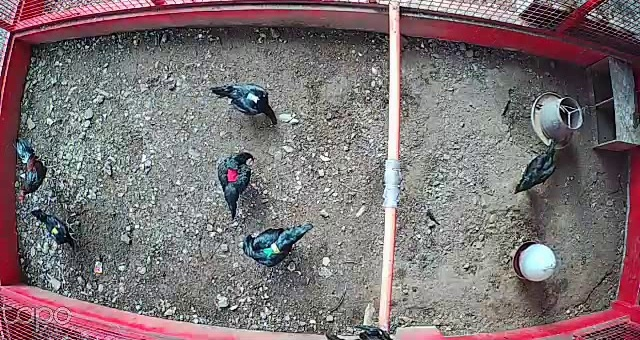Chicken: (207, 74, 282, 137), (242, 220, 310, 272), (515, 138, 562, 197), (219, 150, 258, 221), (31, 206, 80, 253)
Rooster: (13, 133, 62, 206)
Saddle_Color_Red: (227, 169, 239, 182)
Saddle_Color_Yellow: (53, 225, 61, 237)
Saddle_Color_YellowGreen: (262, 242, 279, 260)
